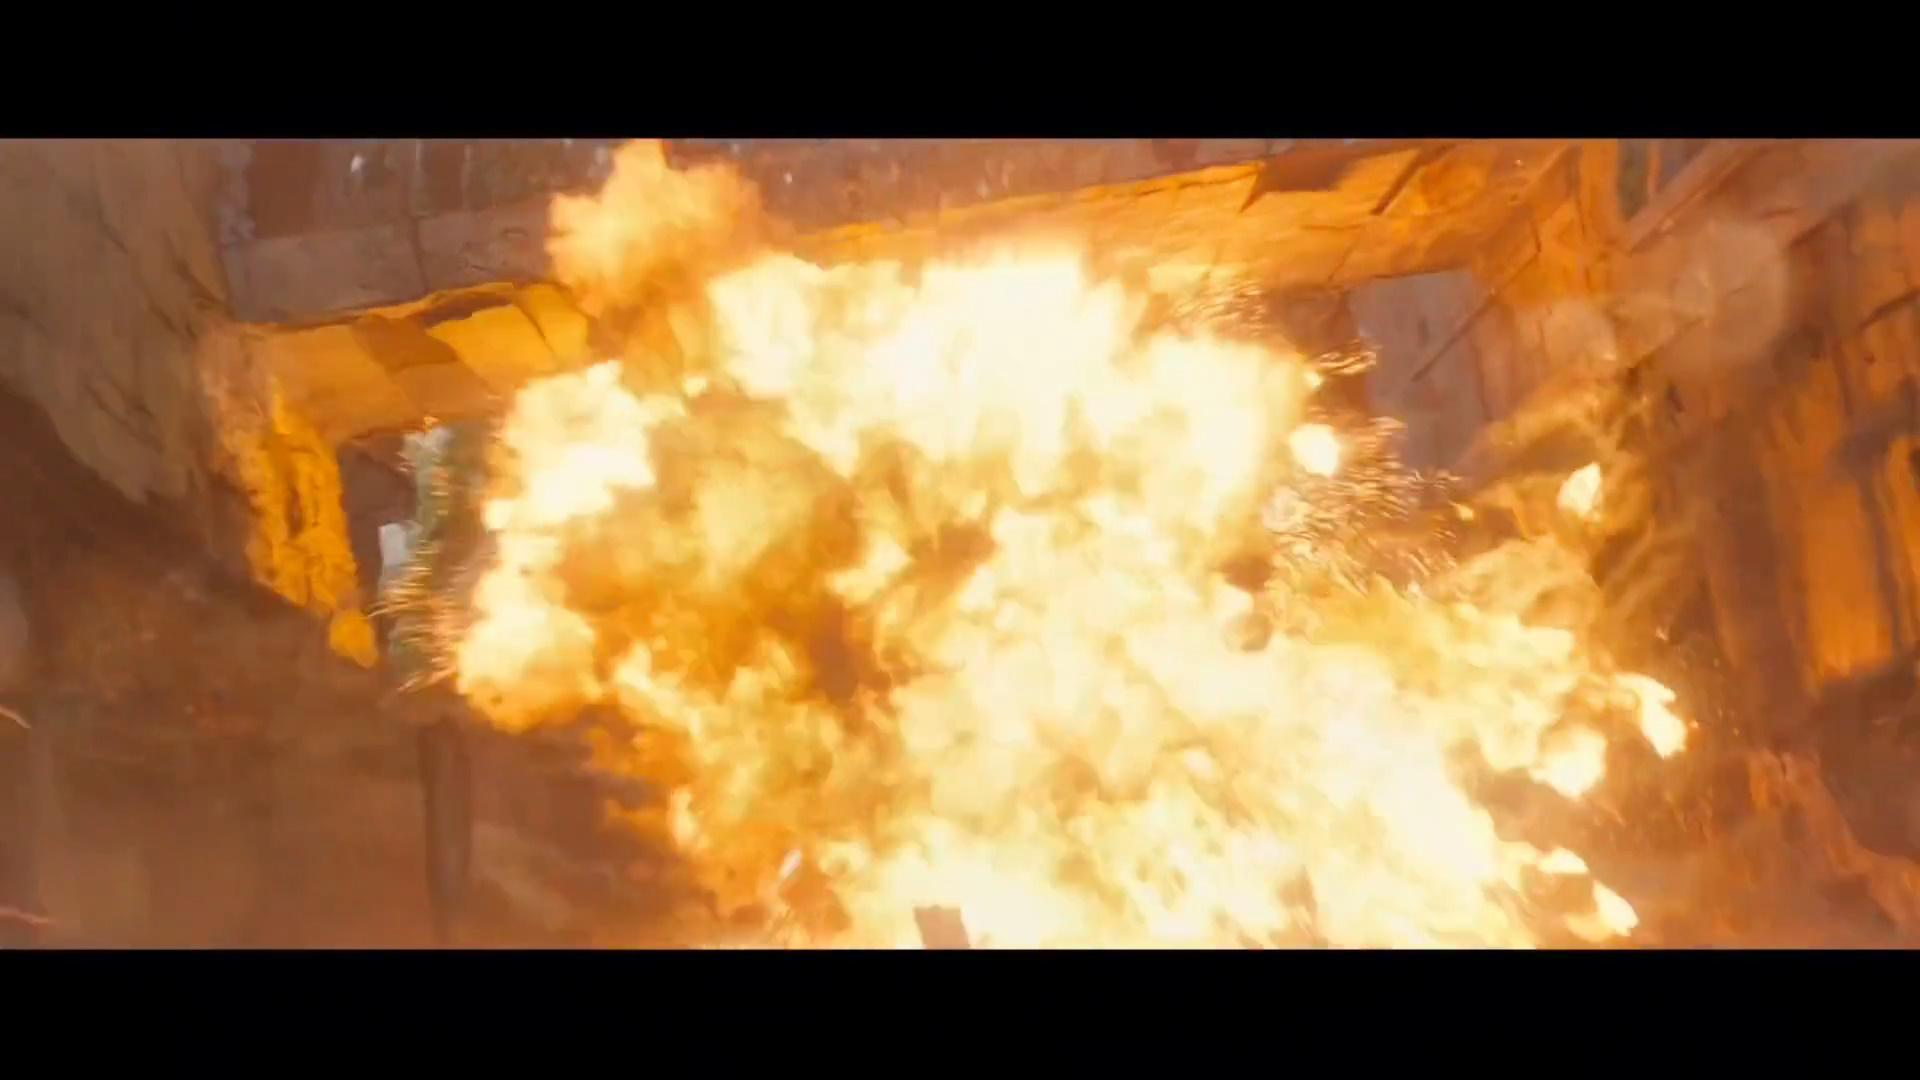fire: (397, 133, 1712, 949)
